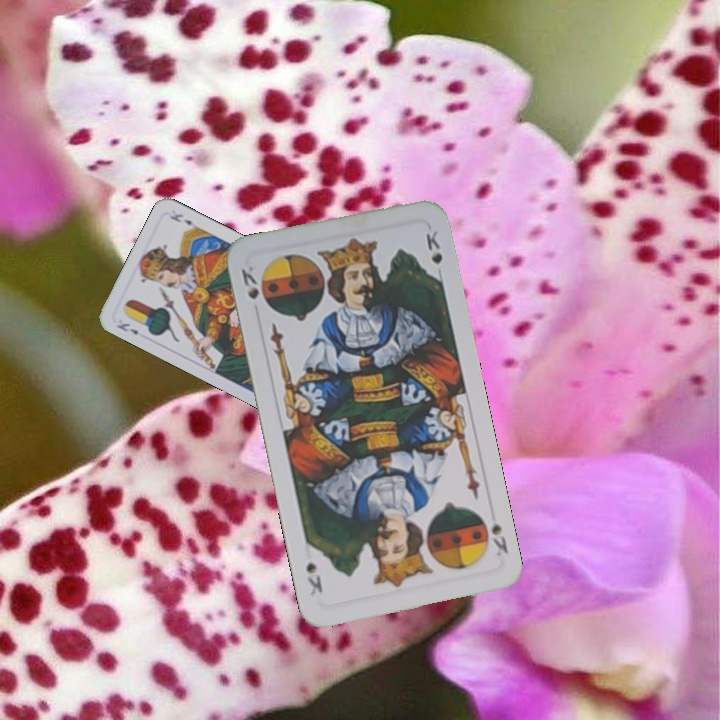EK: (113, 319, 141, 337)
SK: (237, 261, 262, 302), (487, 518, 511, 559)
